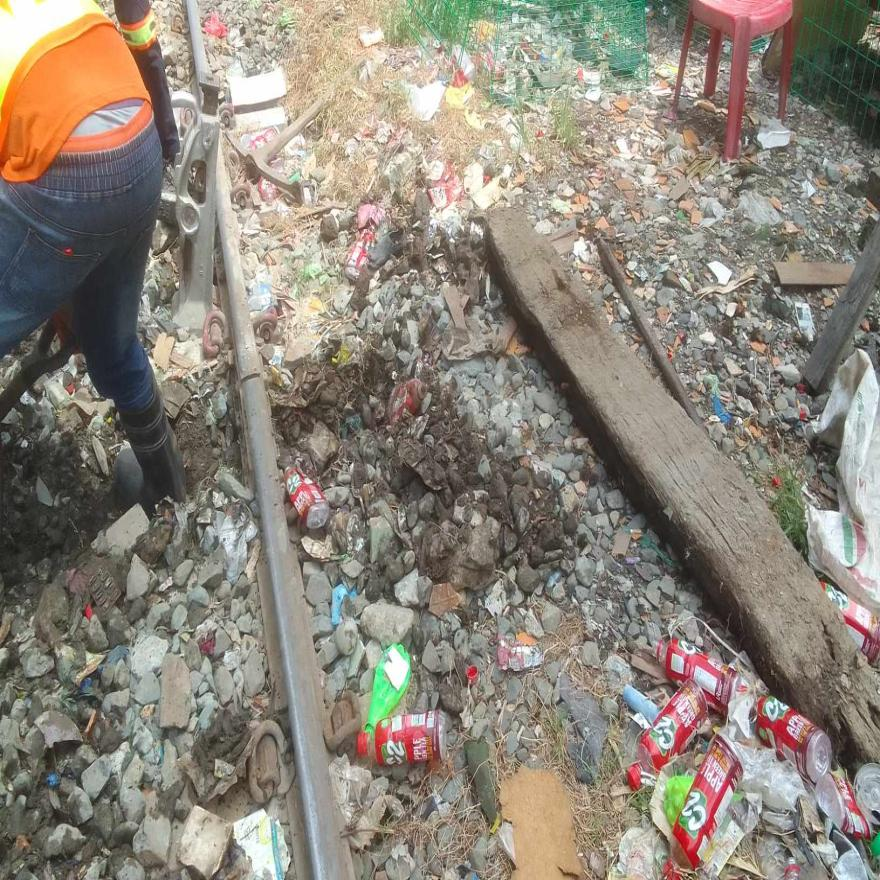railway-gap: (224, 335, 277, 414)
